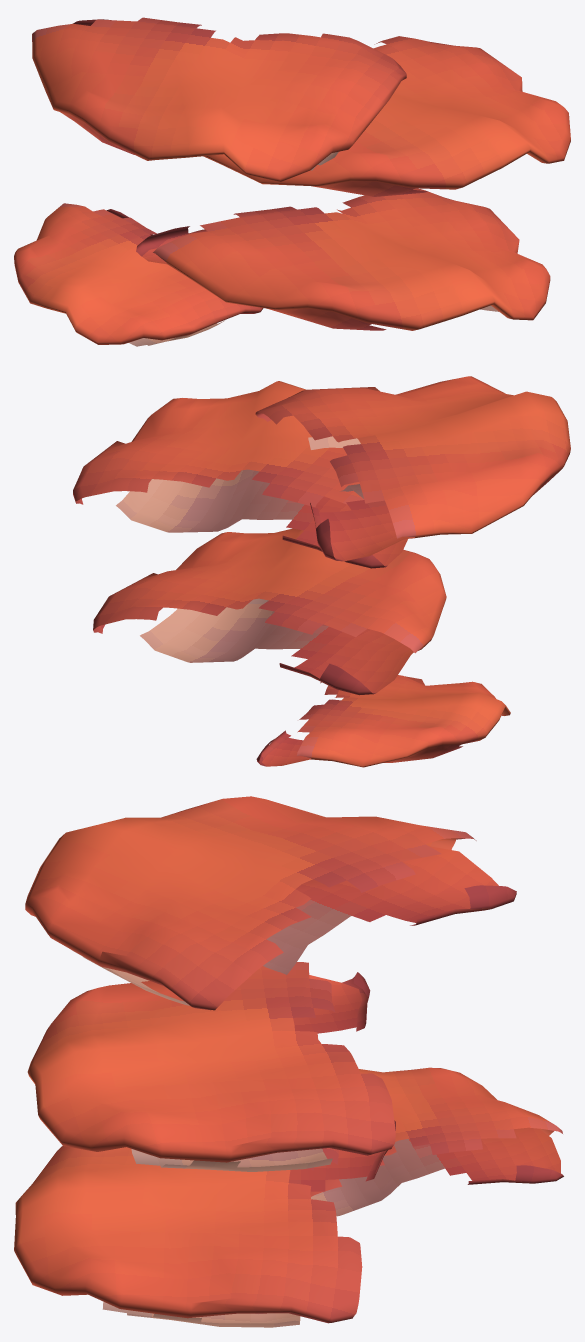
The model's file is Mushroom_Laetiporus.fbx.
3 views of the same model, one above another, from view 1: azimuth 30°, elevation 25°; view 2: azimuth 150°, elevation 25°; view 3: azimuth 270°, elevation 25° (orthographic). The views are drawn at different scales.
Parts seen in each view (by area): view 1: Mushroom_Laetiporus; view 2: Mushroom_Laetiporus; view 3: Mushroom_Laetiporus.
Boxes of the visible parts, box(x1,y1,x2,y2) form: Mushroom_Laetiporus: box(14, 17, 570, 346); Mushroom_Laetiporus: box(73, 376, 570, 767); Mushroom_Laetiporus: box(14, 796, 563, 1327).
Bounding box in the file's own units: 137 × 76.7 × 110.
